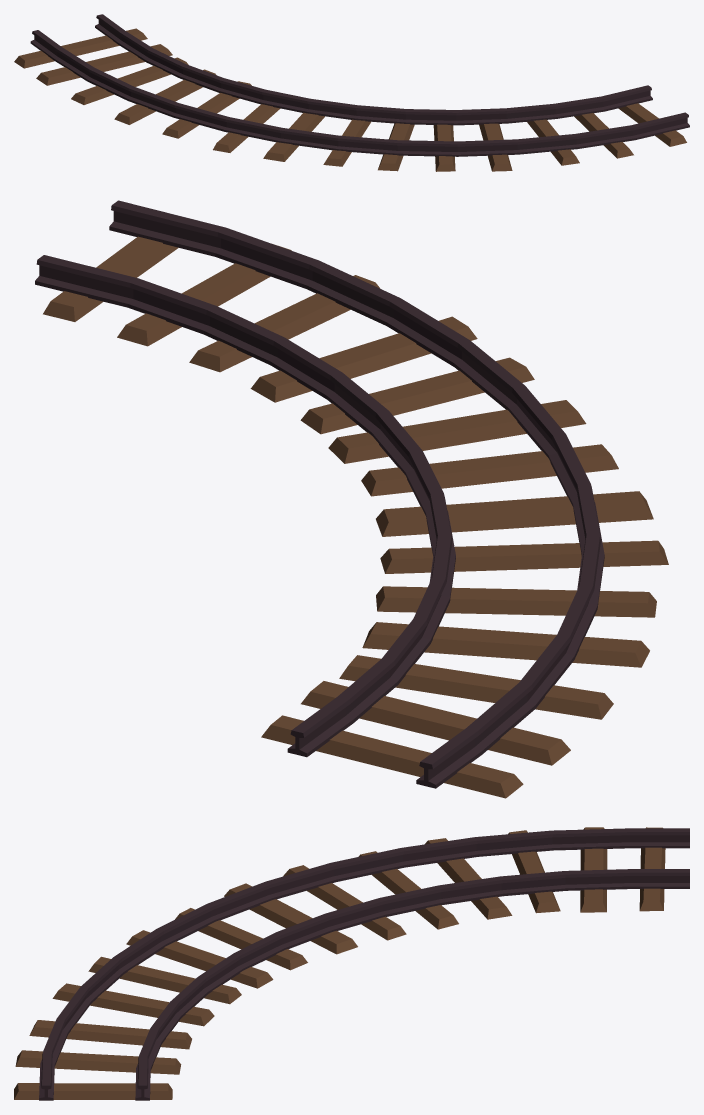
Rendered from railway_turn_style_01.fbx.
3 renders of one model, top to bottom at view 1: azimuth 30°, elevation 25°; view 2: azimuth 150°, elevation 25°; view 3: azimuth 270°, elevation 25°, orthographic. The views are drawn at different scales.
Visible parts, largest first — view 1: curved; view 2: curved; view 3: curved.
Boxes of the visible parts, x1,y1,x2,y2 form: curved: (14, 14, 689, 171); curved: (35, 200, 668, 798); curved: (14, 827, 689, 1100).
Bounding box in the file's own units: 546 × 20.42 × 567.
